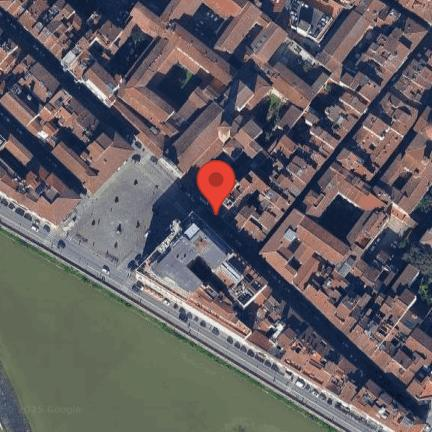area_open: (60, 146, 188, 282), (179, 158, 269, 217), (347, 26, 387, 85), (277, 31, 323, 78), (319, 195, 359, 241), (362, 228, 401, 271), (286, 2, 332, 37), (74, 0, 133, 26), (184, 7, 224, 40), (315, 82, 342, 128), (191, 256, 225, 289), (56, 119, 84, 155), (16, 83, 45, 113), (292, 116, 318, 147), (2, 151, 27, 178), (353, 143, 374, 170), (394, 171, 415, 188), (241, 302, 256, 325), (421, 139, 432, 159)
built: (261, 31, 431, 417), (133, 211, 432, 430), (268, 0, 428, 197), (0, 0, 177, 161), (0, 24, 134, 190), (112, 18, 239, 159), (211, 1, 330, 108), (158, 73, 274, 174), (0, 127, 82, 227), (112, 0, 248, 56), (215, 166, 296, 247), (272, 0, 347, 39)
vegetation_low: (401, 188, 431, 317), (152, 60, 201, 108), (104, 28, 150, 72), (260, 93, 284, 126)
water: (0, 221, 342, 432)
